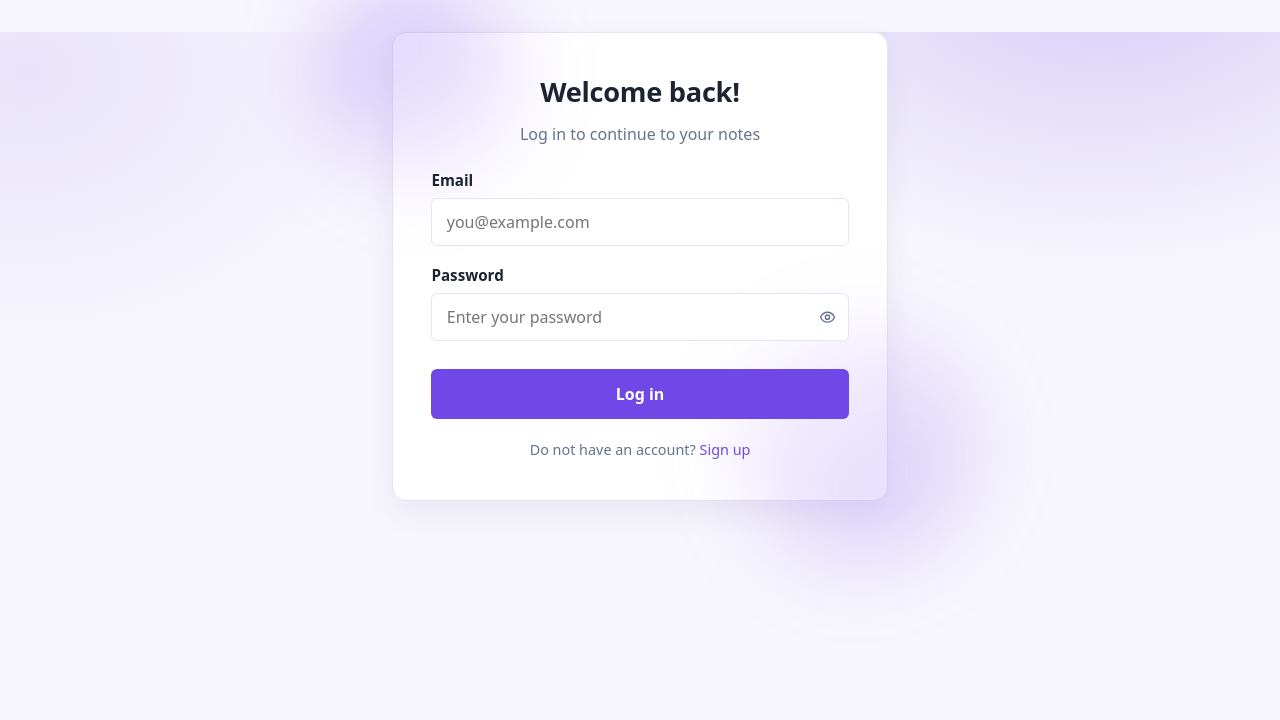
it: LoginPage › says it is working while the request is in flight
This screenshot has width=1280, height=720.
Type "aiman@example.com" into the field with placeholder "you@example.com" at (640, 222), box [431,198,849,246]
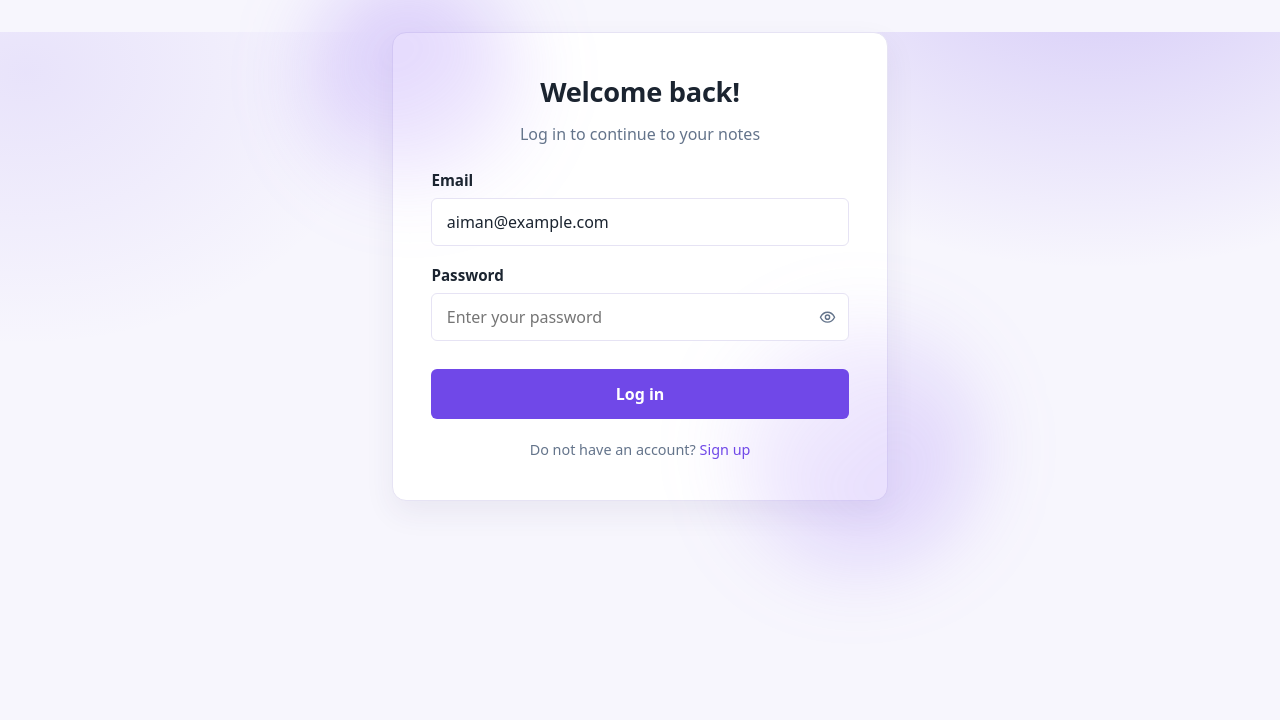
Type "GoodPass1" into the password field with placeholder "Enter your password" at (640, 317), box [431,293,849,341]
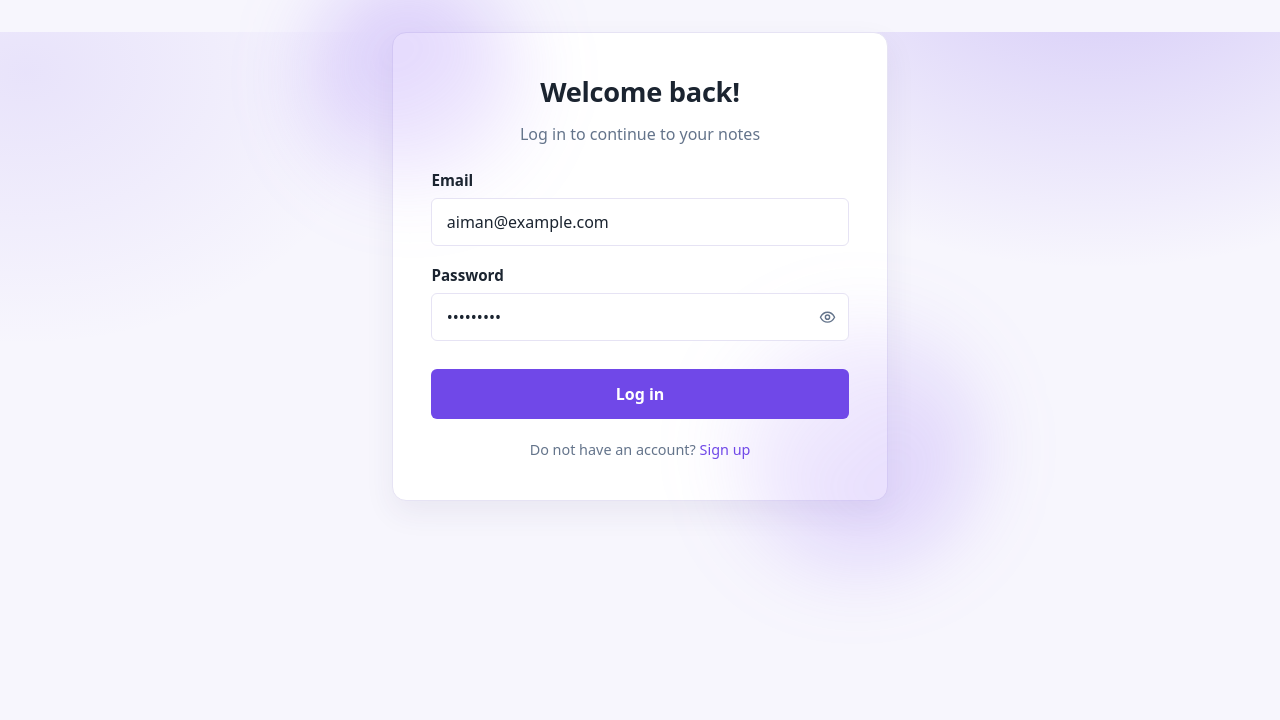
Click the button "Log in" at (640, 394), box [431,369,849,419]
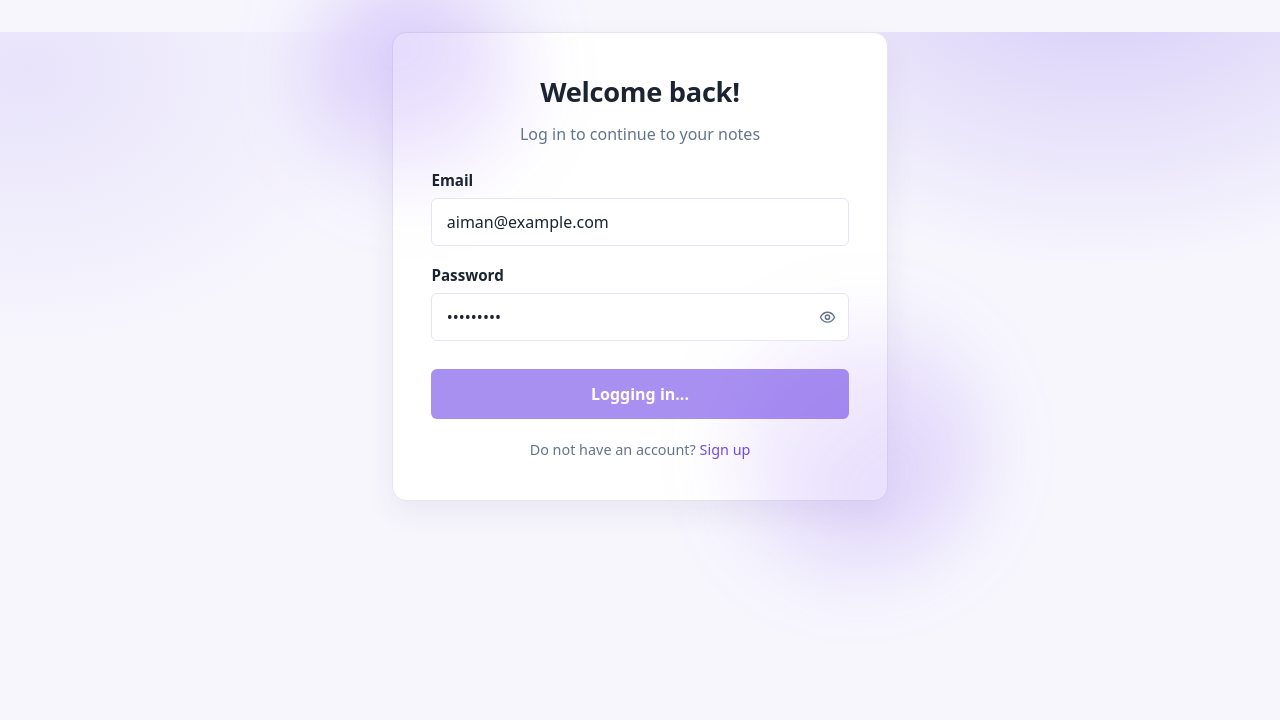
Expected: the button "Logging in..." is disabled, [431,369,849,419]
